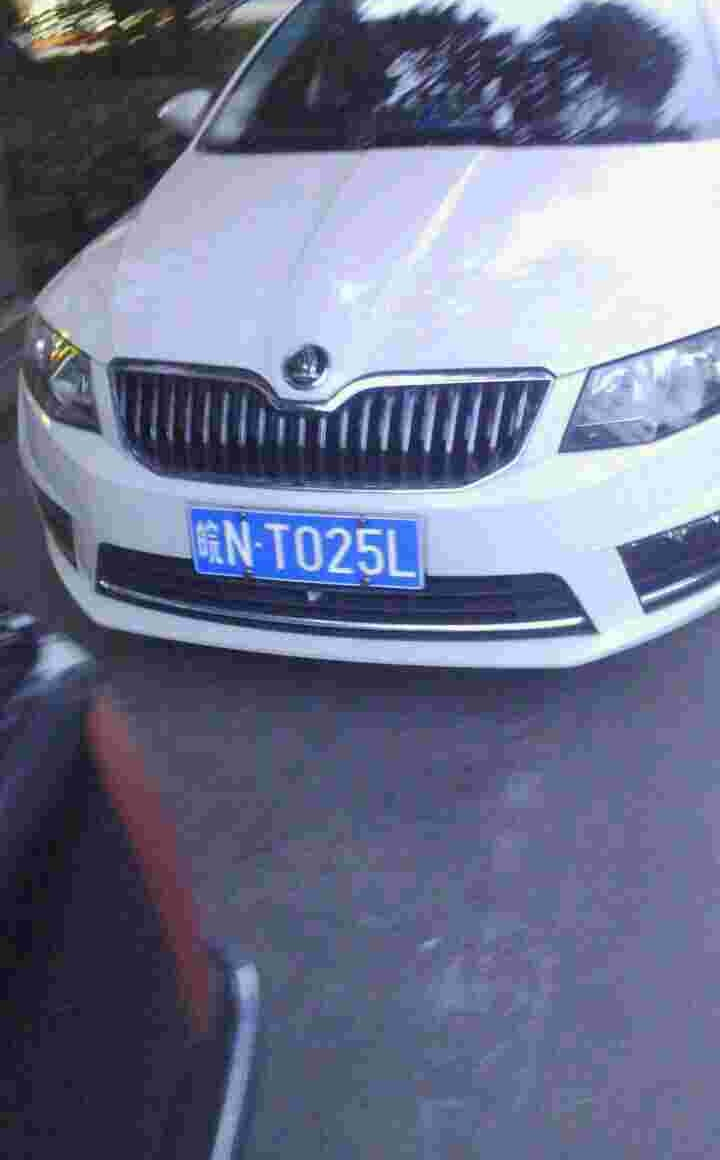plate: (185, 501, 430, 596)
